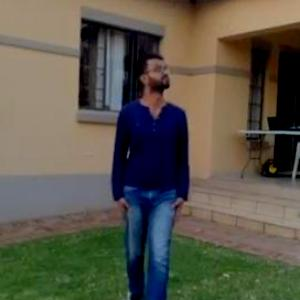follow: (108, 39, 191, 276)
